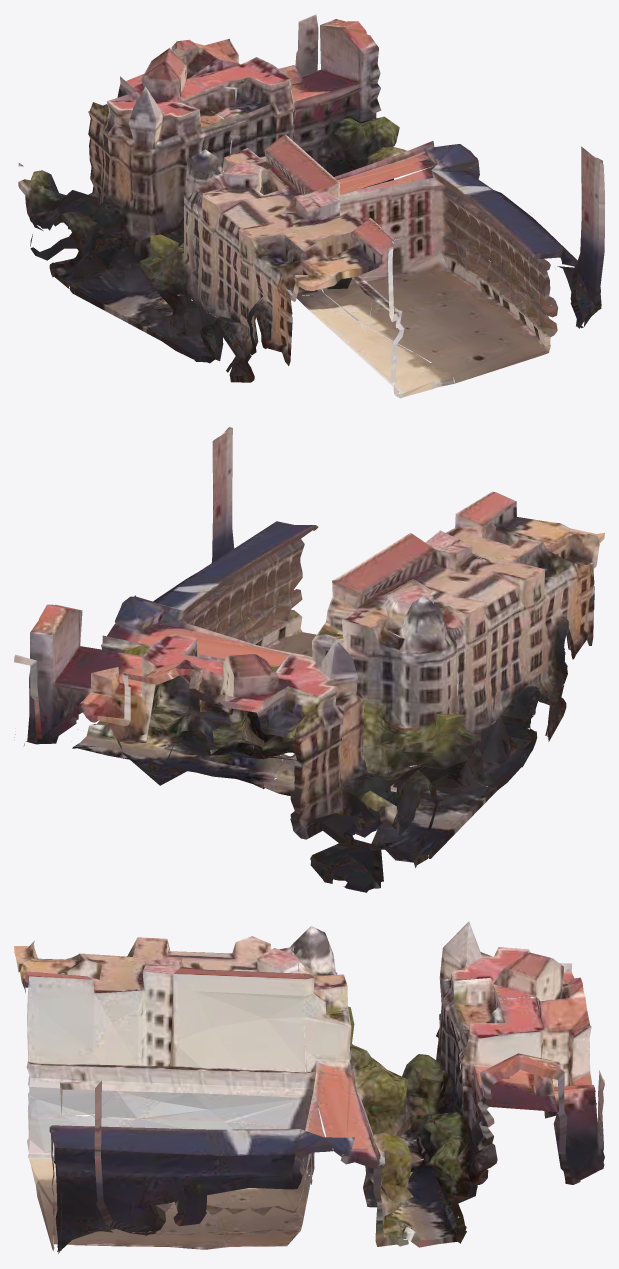
3 renders of one model, top to bottom at view 1: azimuth 30°, elevation 25°; view 2: azimuth 150°, elevation 25°; view 3: azimuth 270°, elevation 25°, orthographic. The views are drawn at different scales.
Visible parts, largest first — view 1: Mesh_0; view 2: Mesh_0; view 3: Mesh_0.
Part boxes in pixels (left/top/right/bottom): Mesh_0: left=18, top=14, right=604, bottom=398; Mesh_0: left=14, top=427, right=604, bottom=892; Mesh_0: left=14, top=921, right=604, bottom=1253.
Size of the model in its own units: 67.82 by 32.44 by 82.63.
1 material, 1 textured.
